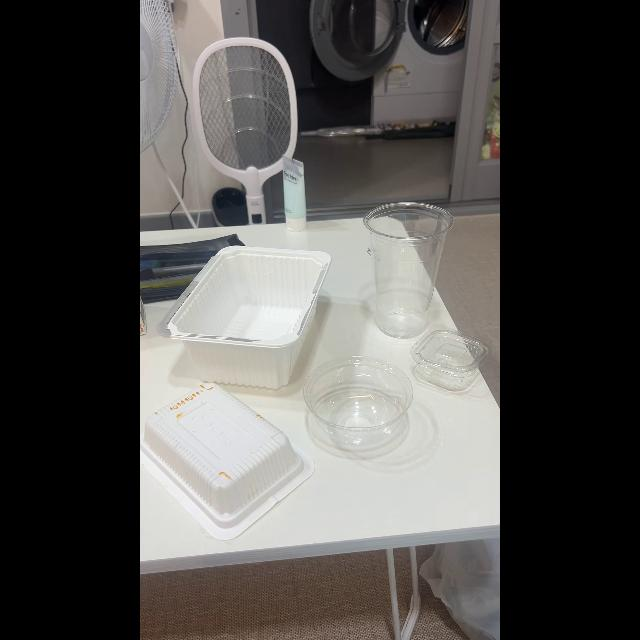clean: (166, 251, 324, 381), (310, 363, 408, 451), (366, 210, 429, 334), (419, 330, 478, 390)
dirty: (144, 386, 294, 516)
